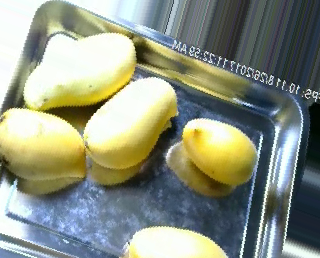Mango: (79, 71, 177, 170), (21, 27, 137, 110), (0, 100, 88, 191), (173, 112, 263, 198)
